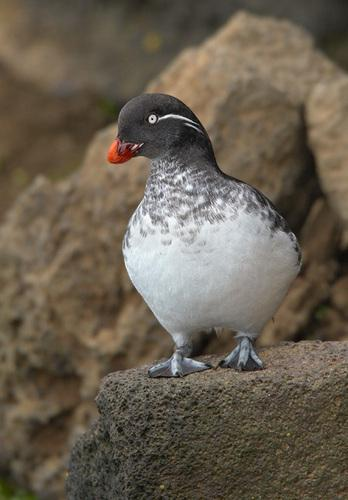007.Parakeet_Auklet: (105, 90, 303, 381)
